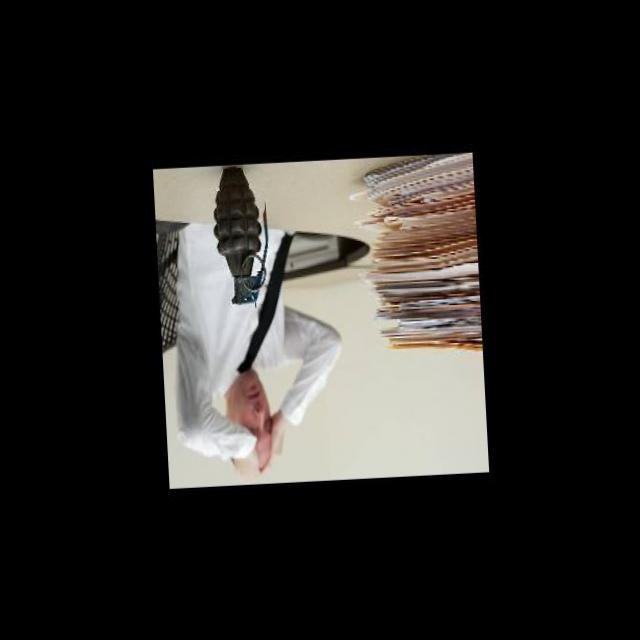grenade: (205, 163, 275, 308)
